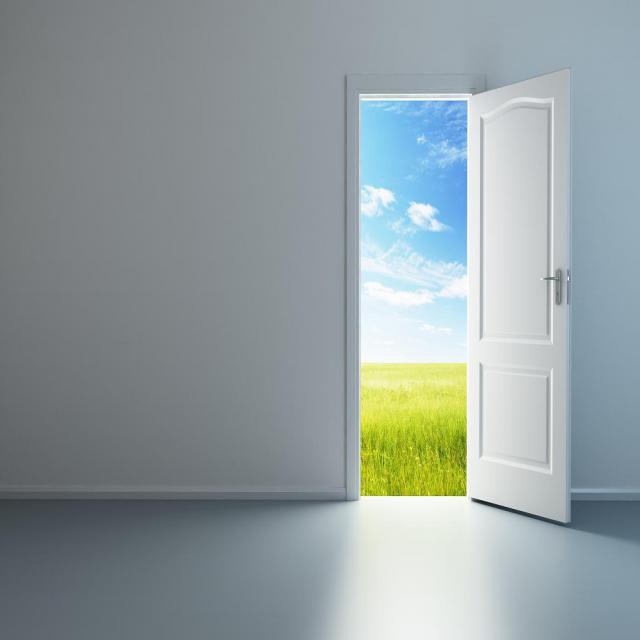open: (335, 59, 577, 541)
